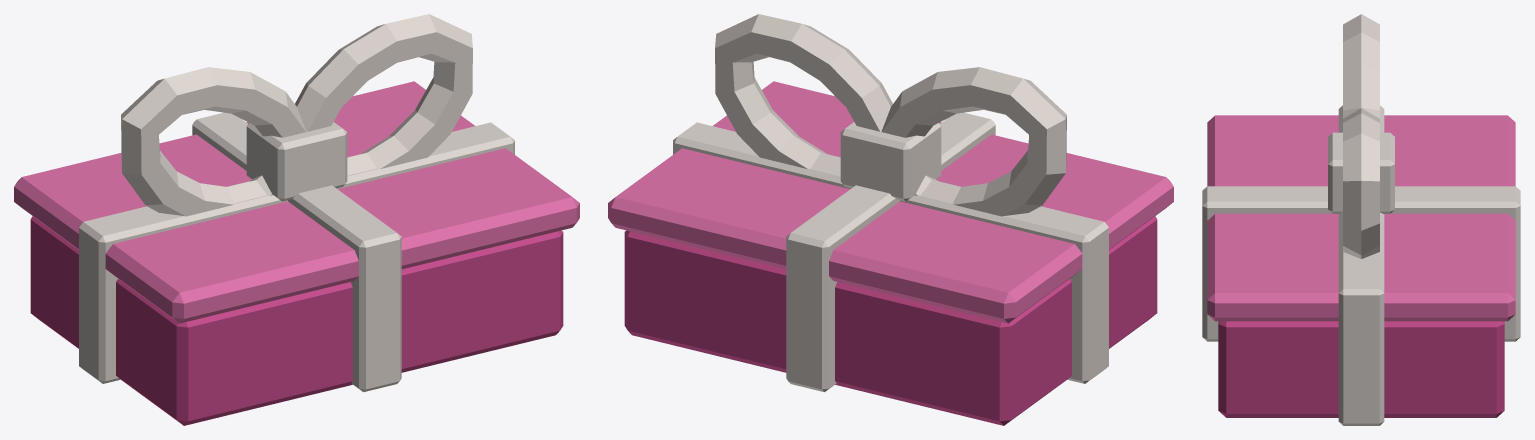
File: Present_Flat.glb
The picture shows the model from 3 angles, left to right: view 1: azimuth 30°, elevation 25°; view 2: azimuth 150°, elevation 25°; view 3: azimuth 270°, elevation 25°; orthographic projection. The views are drawn at different scales.
Visible parts, largest first — view 1: Present_Flat; view 2: Present_Flat; view 3: Present_Flat.
Part boxes in pixels (x1=…): Present_Flat: x1=14, y1=14, x2=579, y2=425; Present_Flat: x1=608, y1=14, x2=1173, y2=425; Present_Flat: x1=1202, y1=14, x2=1520, y2=425.
Size of the model in its own units: 2.8 by 1.81 by 2.
